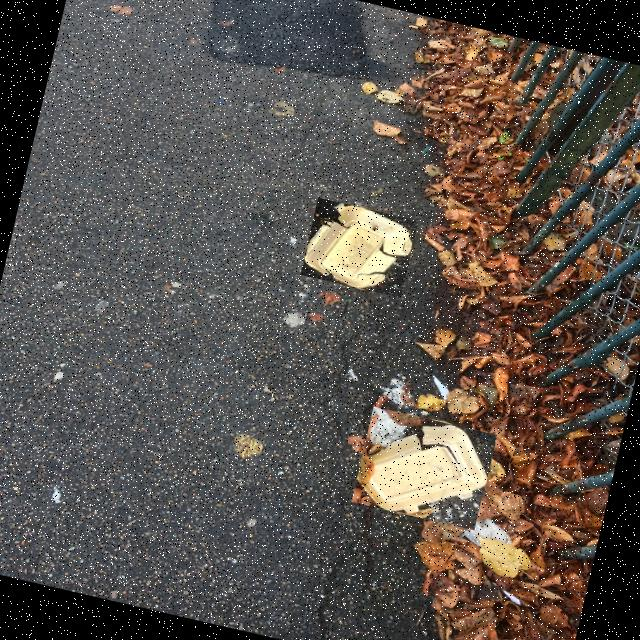Foam food container: (357, 426, 487, 514), (304, 203, 412, 288)
Unlabeled litter: (442, 491, 510, 546)
